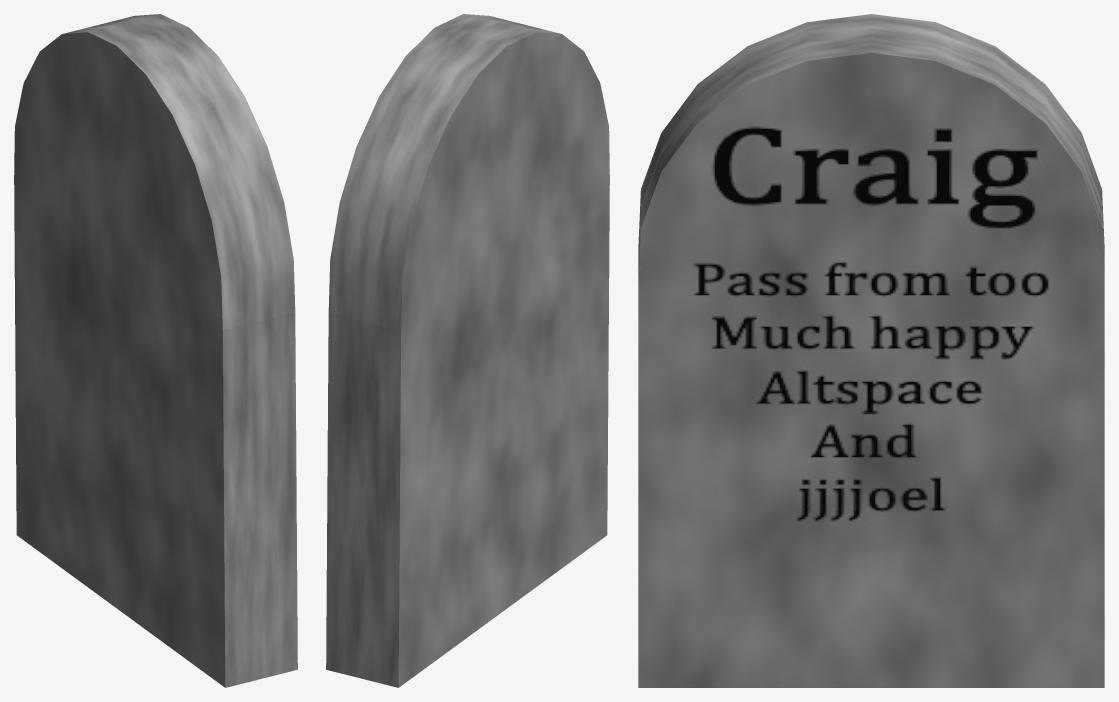
The model's file is Gravestone.Craig.dae.
3 views of the same model, side by side, from view 1: azimuth 30°, elevation 25°; view 2: azimuth 150°, elevation 25°; view 3: azimuth 270°, elevation 25° (orthographic). The views are drawn at different scales.
Parts seen in each view (by area): view 1: SketchUp; view 2: SketchUp; view 3: SketchUp.
Boxes of the visible parts, left/top/right/bottom form: SketchUp: left=14, top=14, right=297, bottom=687; SketchUp: left=326, top=14, right=609, bottom=687; SketchUp: left=638, top=14, right=1104, bottom=687.
Size of the model in its own units: 0.0341 by 0.161 by 0.2413.
1 material, 1 textured.
